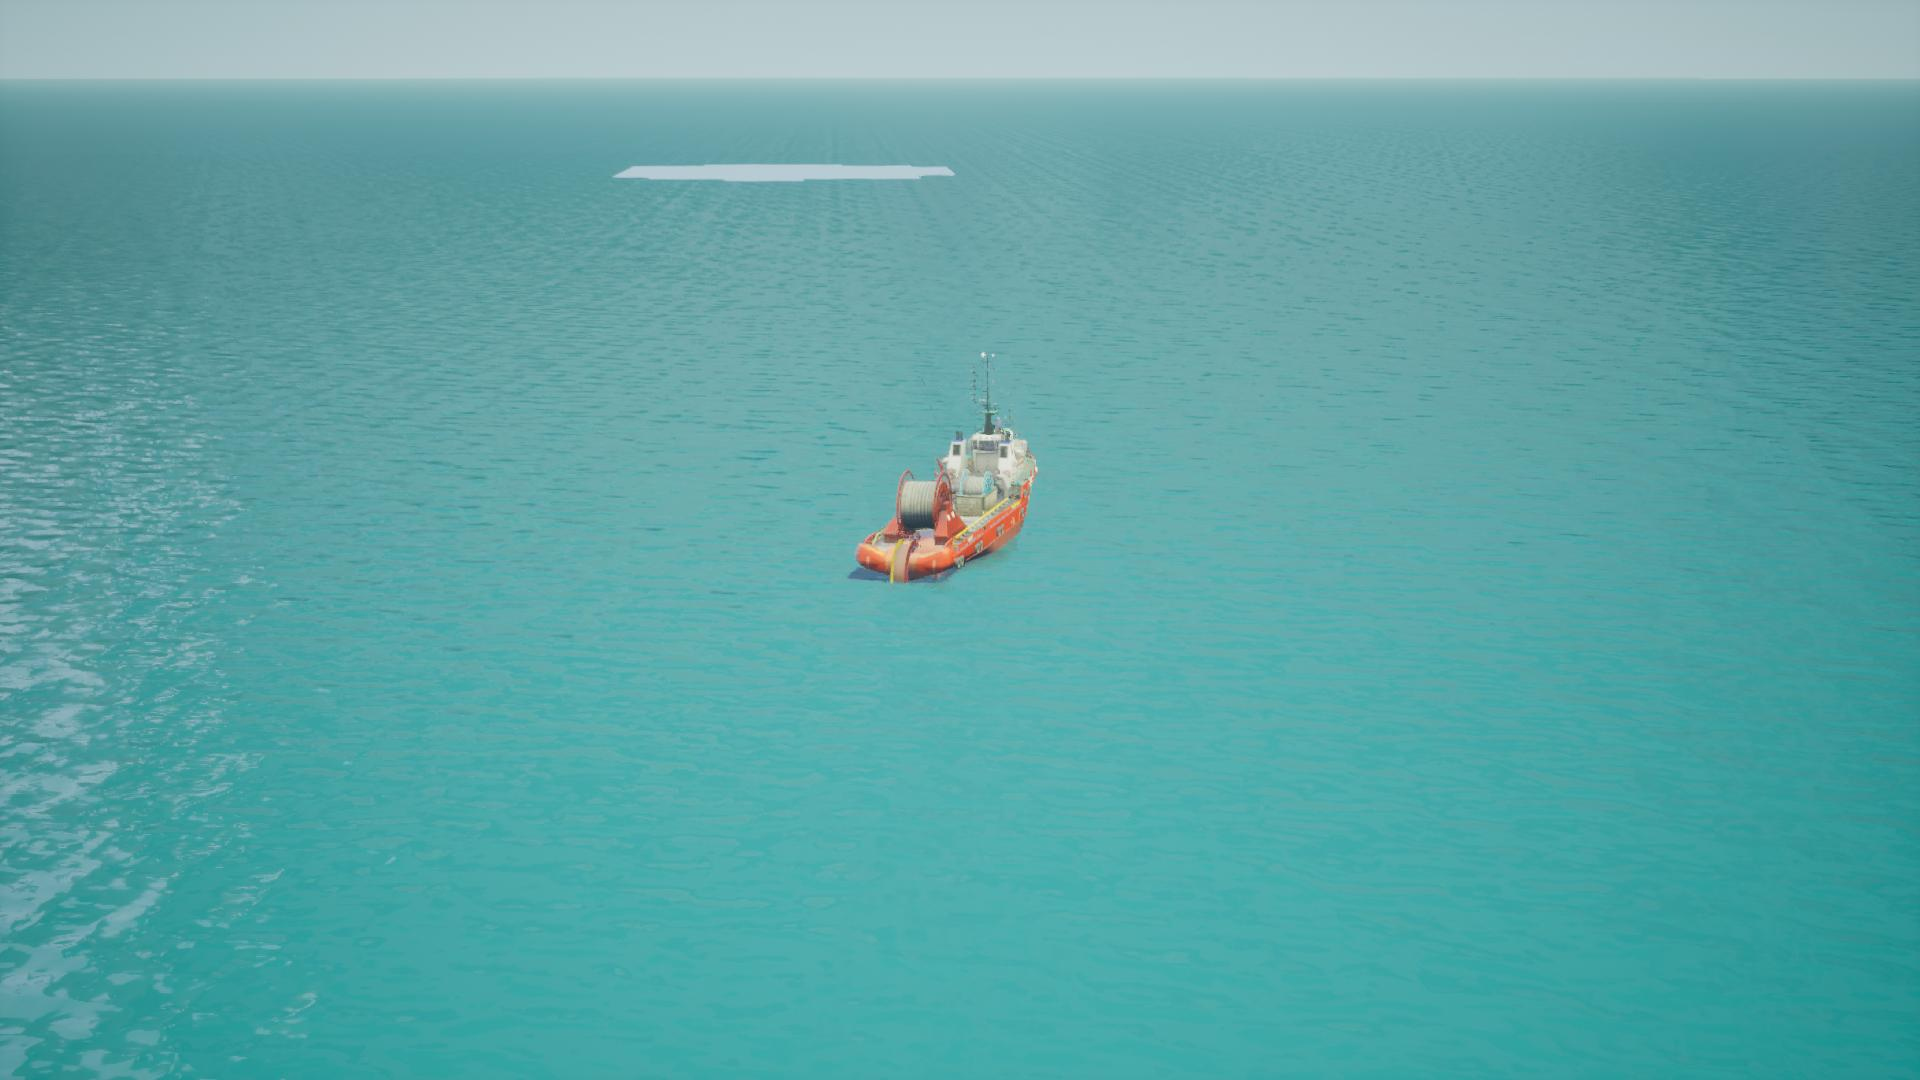Tug Boat: (872, 352, 1036, 589)
